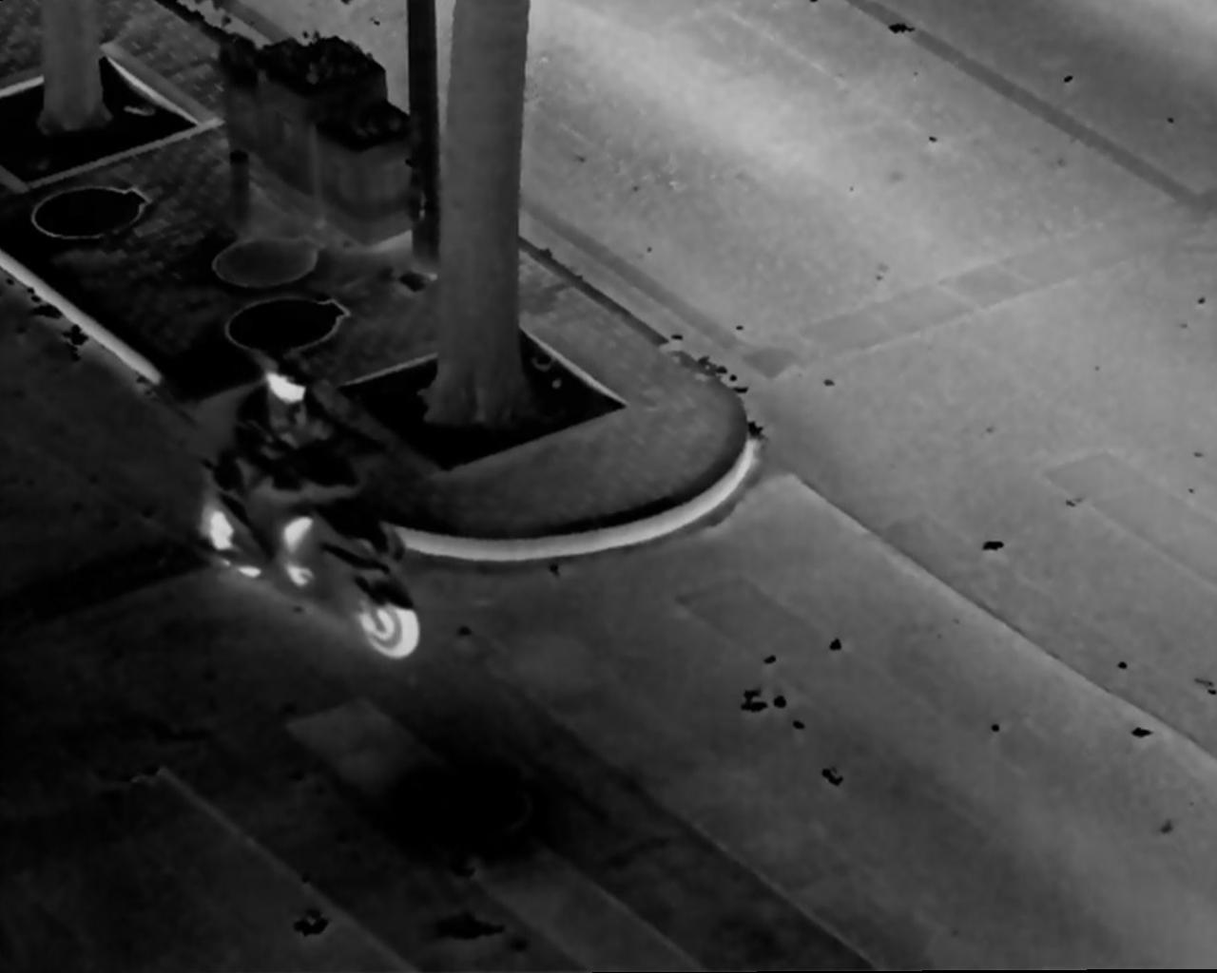person: (225, 349, 360, 587)
